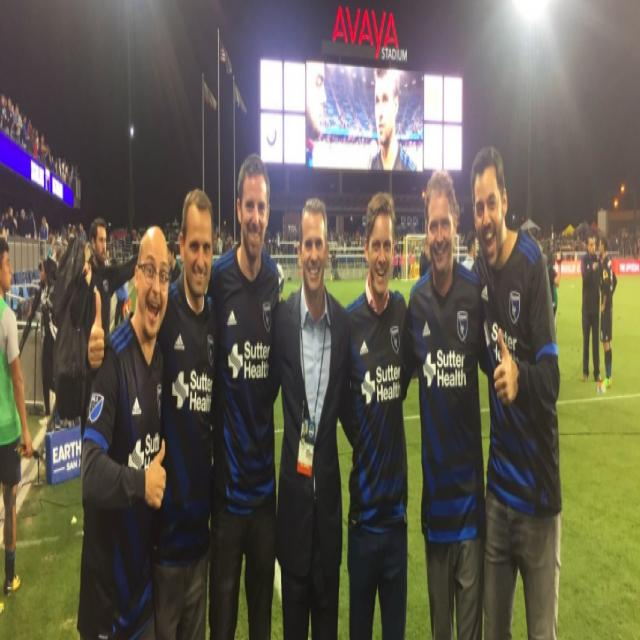body: (85, 187, 220, 640), (464, 151, 562, 638), (399, 170, 496, 640), (200, 152, 284, 640), (75, 221, 172, 640), (140, 214, 640, 292), (272, 195, 354, 640), (342, 188, 419, 640), (1, 90, 138, 332), (68, 217, 139, 443), (0, 235, 34, 616), (367, 63, 414, 178), (578, 230, 604, 385), (300, 54, 330, 170), (598, 230, 618, 393)
